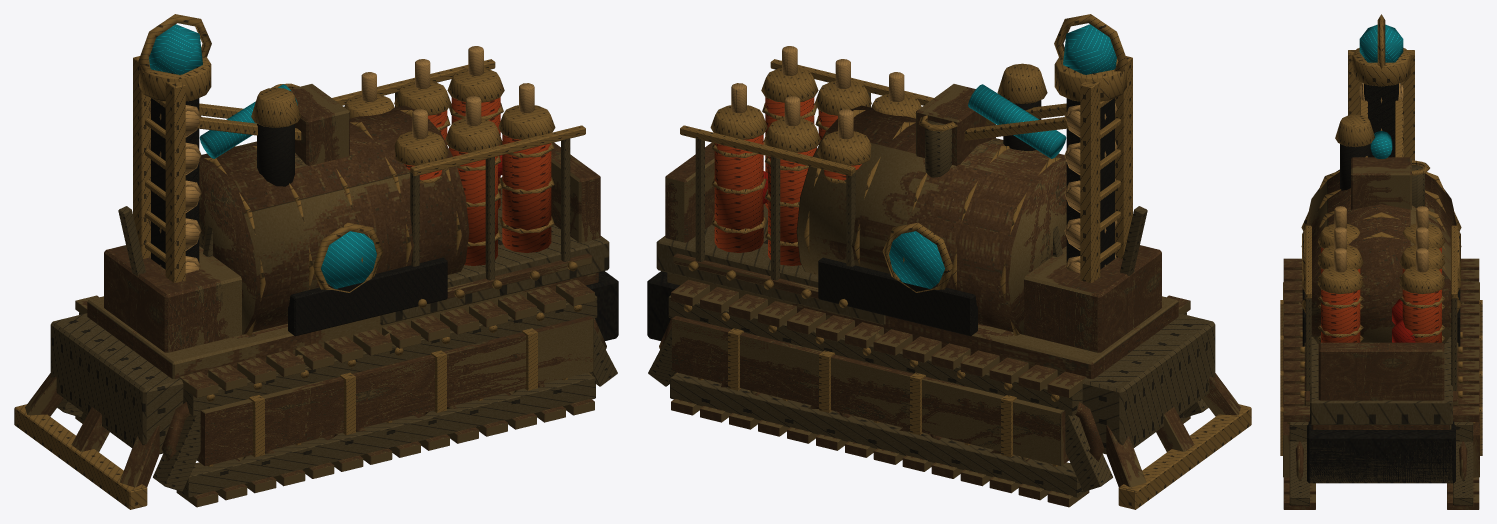
The model's file is crawler.glb.
3 renders of one model, left to right at view 1: azimuth 30°, elevation 25°; view 2: azimuth 150°, elevation 25°; view 3: azimuth 270°, elevation 25°, orthographic. The views are drawn at different scales.
Visible parts, largest first — view 1: tracks, capacitor_bank, drain_mast; view 2: tracks, capacitor_bank, drain_mast; view 3: capacitor_bank, tracks, drain_mast.
Boxes of the visible parts, bbox=[...] form: tracks: bbox=[14, 271, 618, 509]; capacitor_bank: bbox=[199, 46, 609, 336]; drain_mast: bbox=[104, 14, 349, 352]; tracks: bbox=[647, 271, 1251, 509]; capacitor_bank: bbox=[656, 46, 1066, 336]; drain_mast: bbox=[916, 14, 1161, 352]; capacitor_bank: bbox=[1300, 114, 1462, 424]; tracks: bbox=[1280, 258, 1482, 509]; drain_mast: bbox=[1348, 14, 1414, 209].
Size of the model in its own units: 3.2 by 2.68 by 1.39.
1 material, 1 textured.
